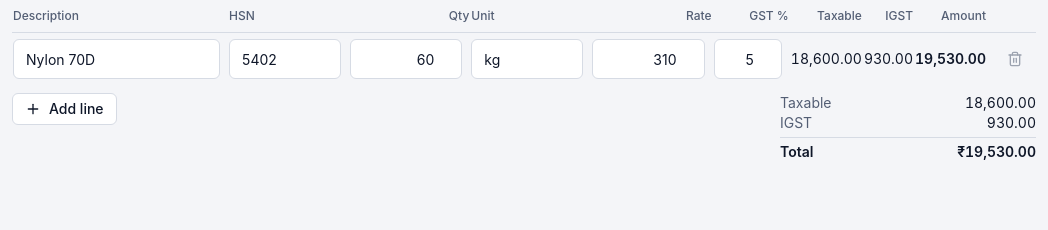
it: the lines editor › shows the split for the supply type and adds a line that inherits the GST rate
Expected: the number of column headings "IGST" is 2, [863,0,914,32]; [780,113,812,133]
Click the button "Add line". click: [64, 109]
box: [12,93,117,125]
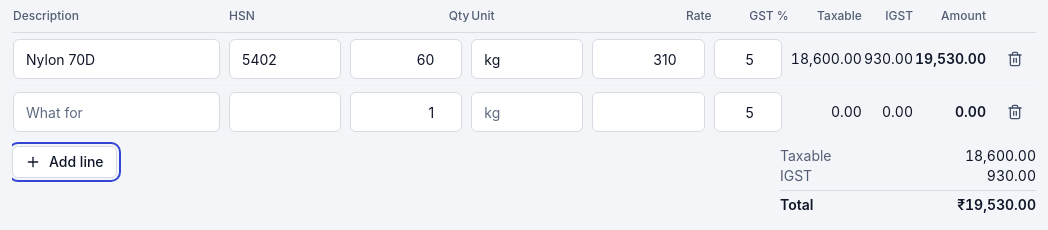
Expected: the number field named "Line 2 GST %" holds "5", [714,92,782,132]
Expected: the button named "Remove line 1" is enabled, [995,43,1035,75]
